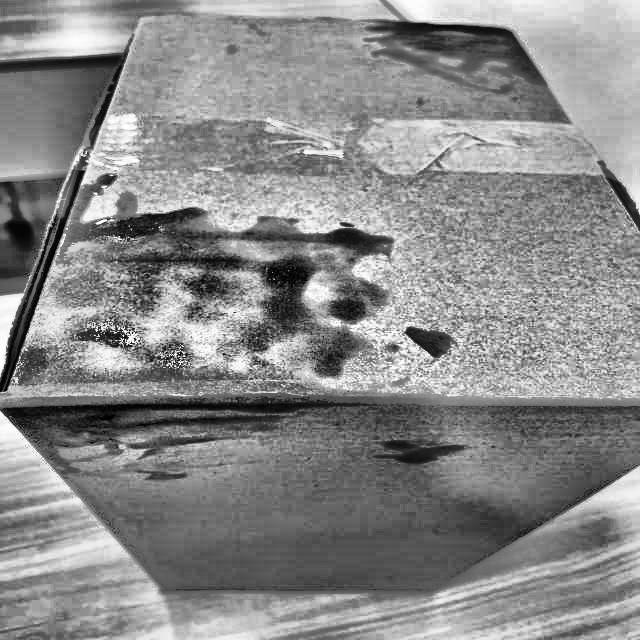box: (40, 13, 640, 612)
wet: (30, 195, 380, 466), (380, 18, 549, 96)
